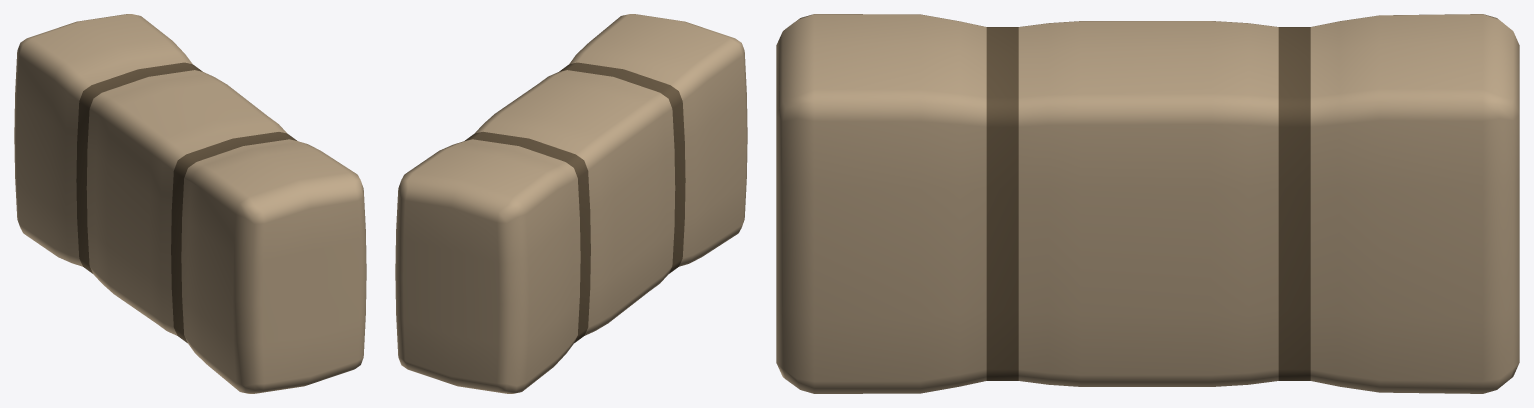
File: P_hay_01_LD.fbx
3 views of the same model, side by side, from view 1: azimuth 30°, elevation 25°; view 2: azimuth 150°, elevation 25°; view 3: azimuth 270°, elevation 25° (orthographic). The views are drawn at different scales.
Parts seen in each view (by area): view 1: P_hay_01; view 2: P_hay_01; view 3: P_hay_01.
Boxes of the visible parts, x1,y1,x2,y2 form: P_hay_01: [14, 14, 366, 393]; P_hay_01: [395, 14, 747, 393]; P_hay_01: [776, 14, 1519, 393].
Bounding box in the file's own units: 47.54 × 71.02 × 150.
Materials: 1 (1 with a texture image).
